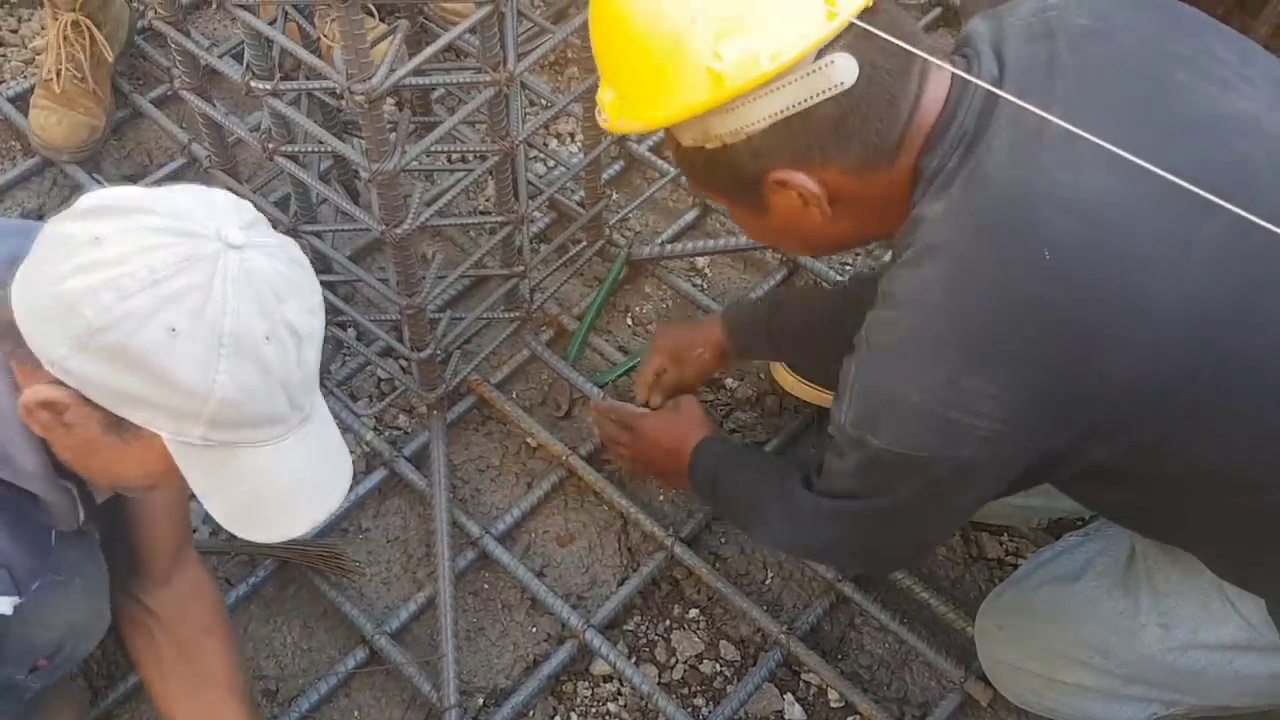helmet: (572, 2, 873, 140)
helmet-off: (0, 194, 340, 541)
helmet-on: (576, 0, 973, 243)
person: (575, 0, 1280, 713), (0, 177, 351, 718)
